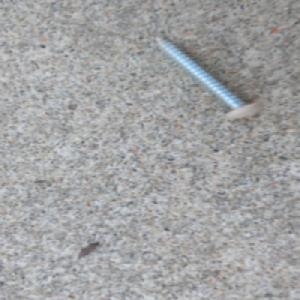Screw: (151, 33, 265, 121)
